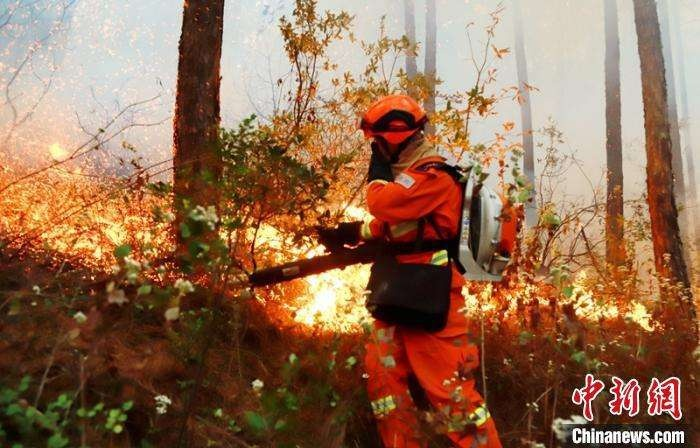fire: (11, 134, 375, 339), (463, 250, 663, 337)
